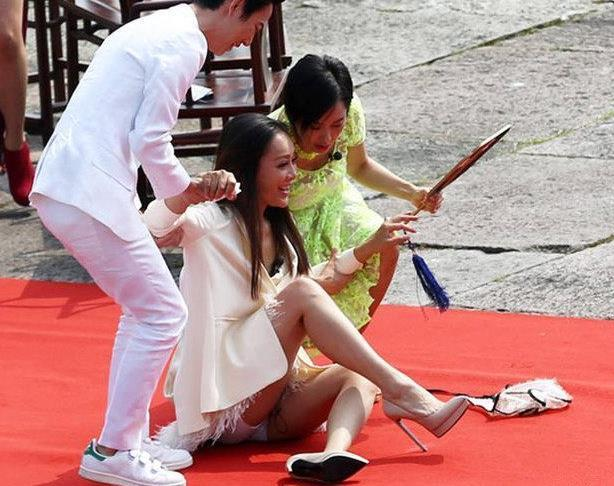bending: (18, 1, 289, 483), (139, 108, 482, 483), (259, 48, 514, 383)
